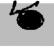correct: (8, 0, 45, 31)
